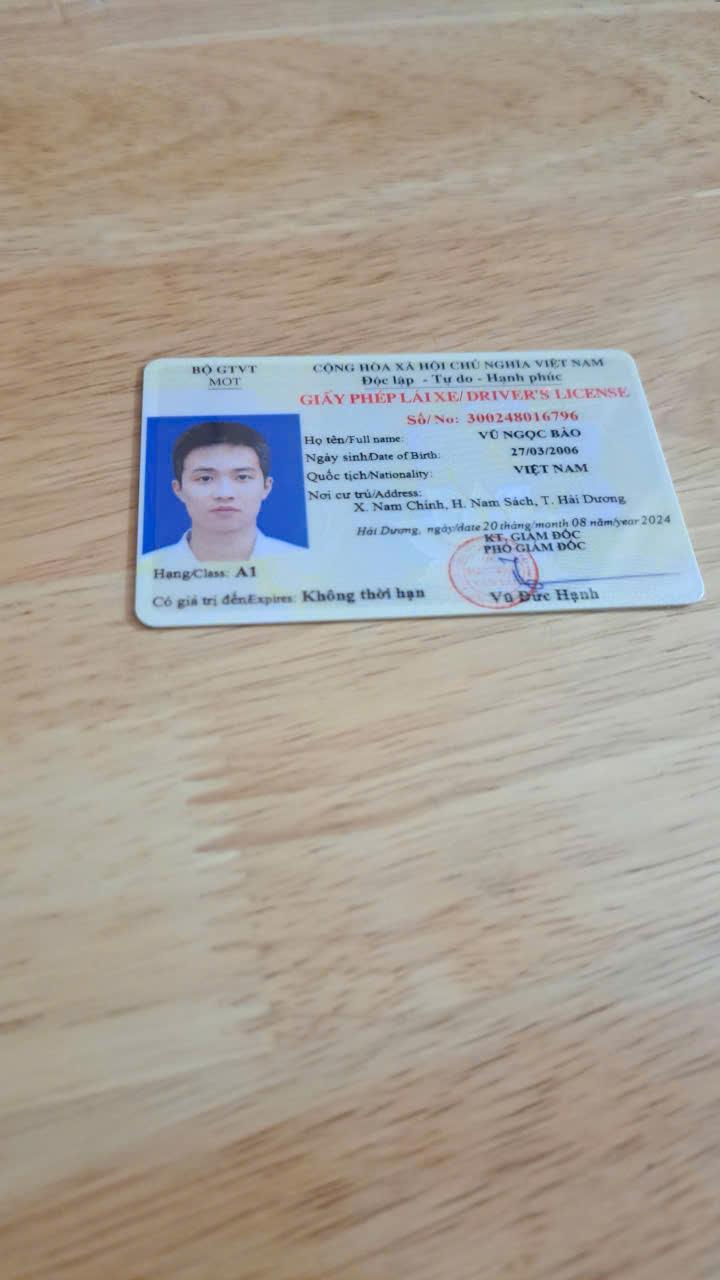gplx: (124, 347, 717, 633)
